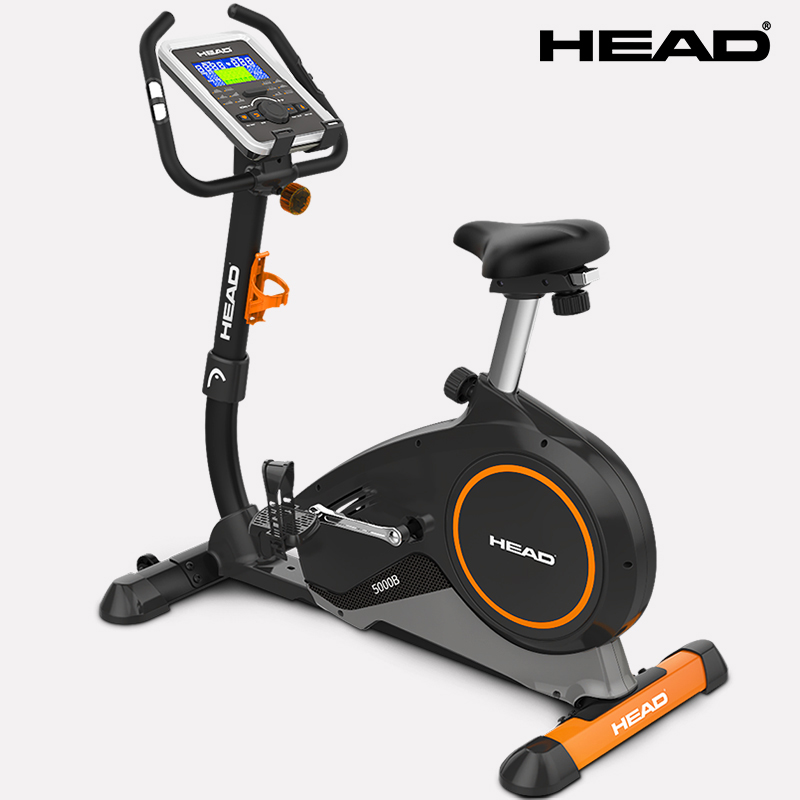gym_bike: (65, 3, 727, 790)
